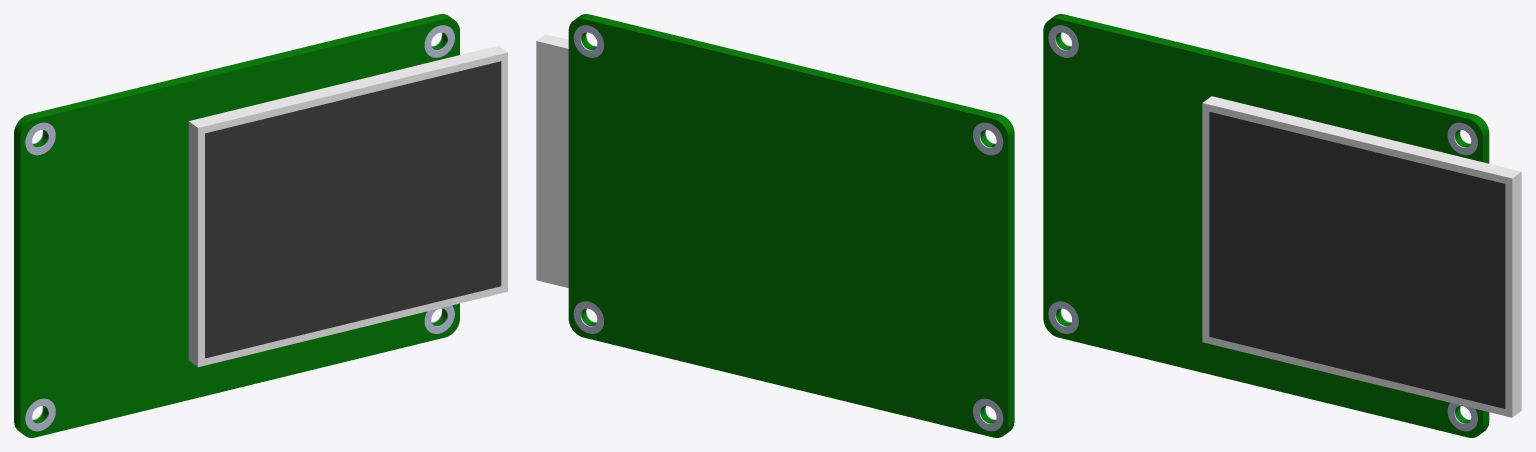
The model's file is pcb.glb.
3 renders of one model, left to right at view 1: azimuth 30°, elevation 25°; view 2: azimuth 150°, elevation 25°; view 3: azimuth 330°, elevation 25°, orthographic.
Visible parts, largest first — view 1: pcb_fake1_full2_nologo; view 2: pcb_fake1_full2_nologo; view 3: pcb_fake1_full2_nologo.
Boxes of the visible parts, left/top/right/bottom form: pcb_fake1_full2_nologo: left=14, top=14, right=507, bottom=437; pcb_fake1_full2_nologo: left=536, top=14, right=1014, bottom=437; pcb_fake1_full2_nologo: left=1043, top=14, right=1521, bottom=437.
Bounding box in the file's own units: 0.0707 × 0.045 × 0.004.
